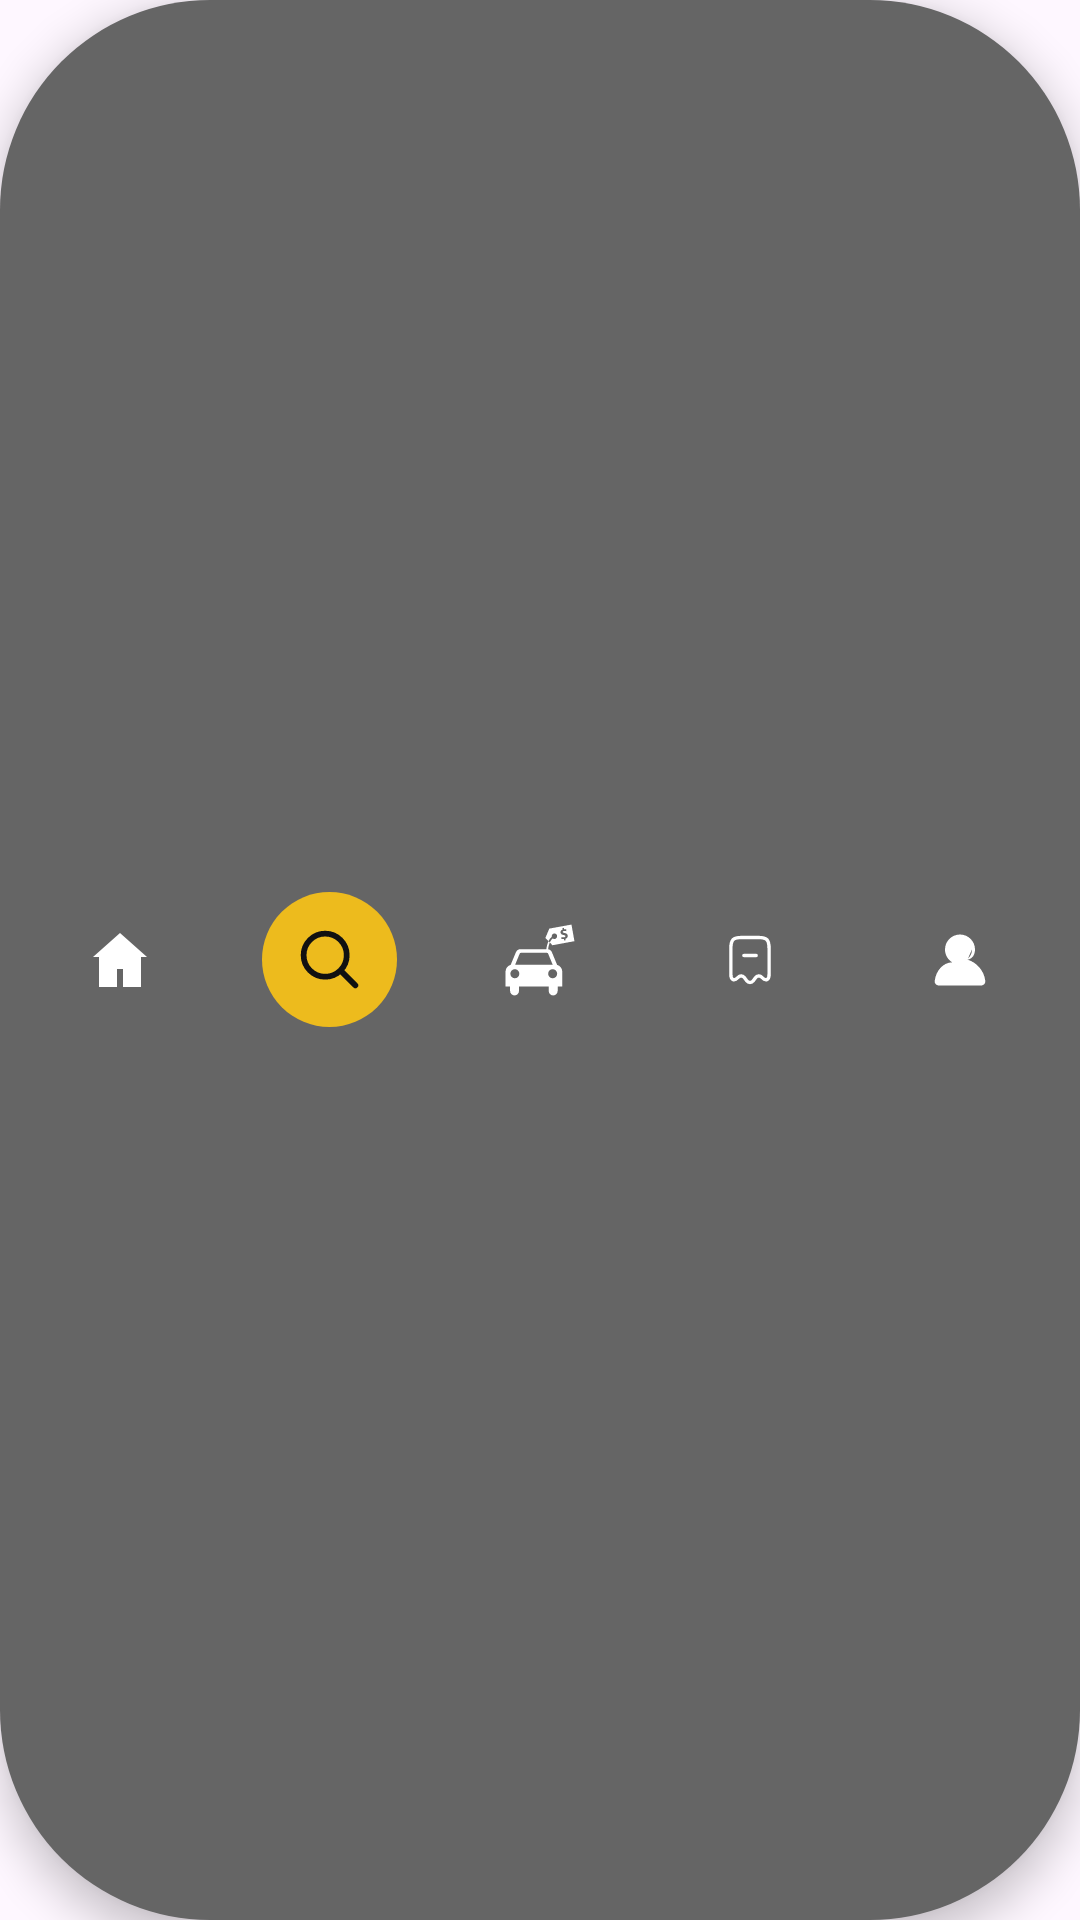

Icon click points for this 1080px×1920px phone screenshot, format [x,y]:
home: [120,960]
profile: [960,960]
search: [329,959]
sell: [540,960]
transaction: [750,959]
